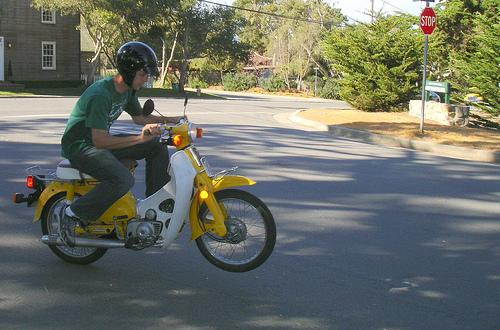motorbike: (5, 129, 281, 273)
